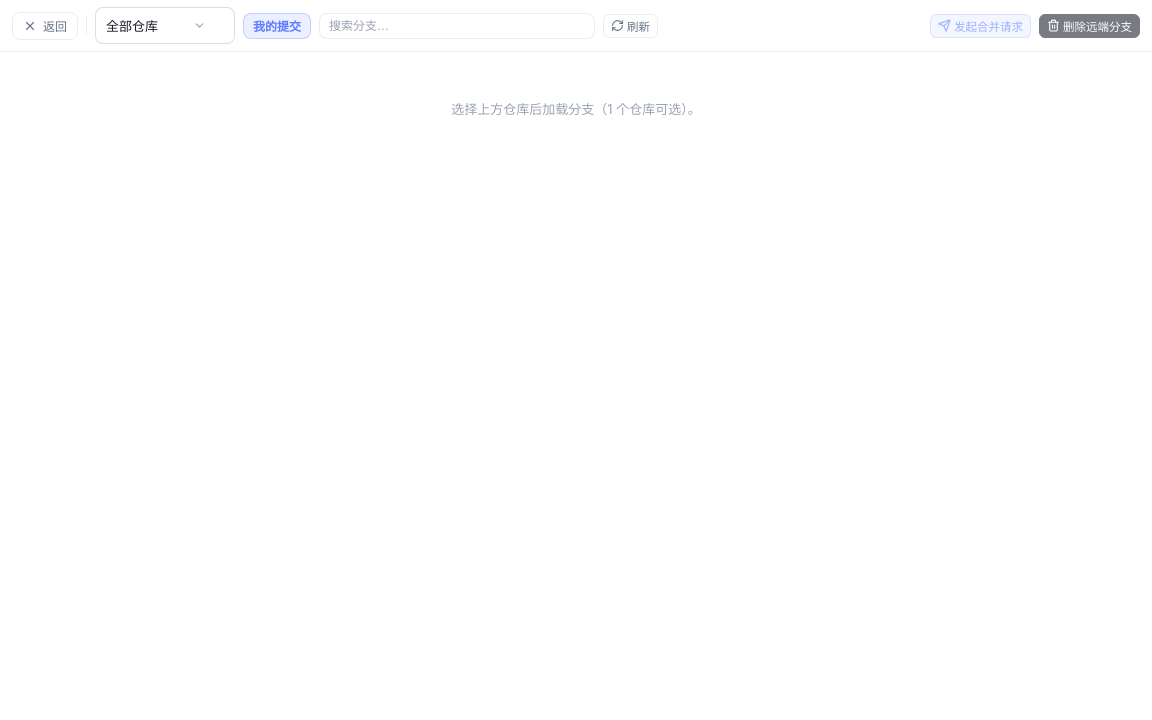
Test: PendingMrView › runs the dry-run scan, confirms in an in-app dialog, then deletes
Click the dropdown labelled "全部仓库": (165, 26) [95,7,235,44]
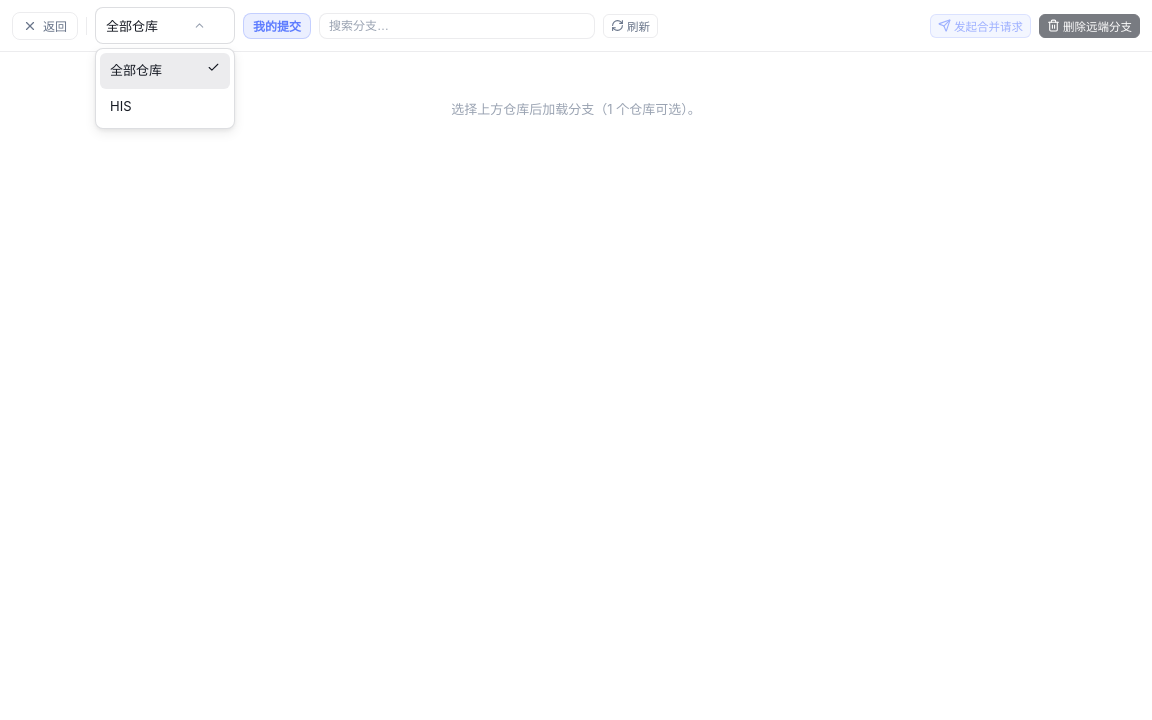
Click the option "HIS": (121, 106) [110,98,132,114]
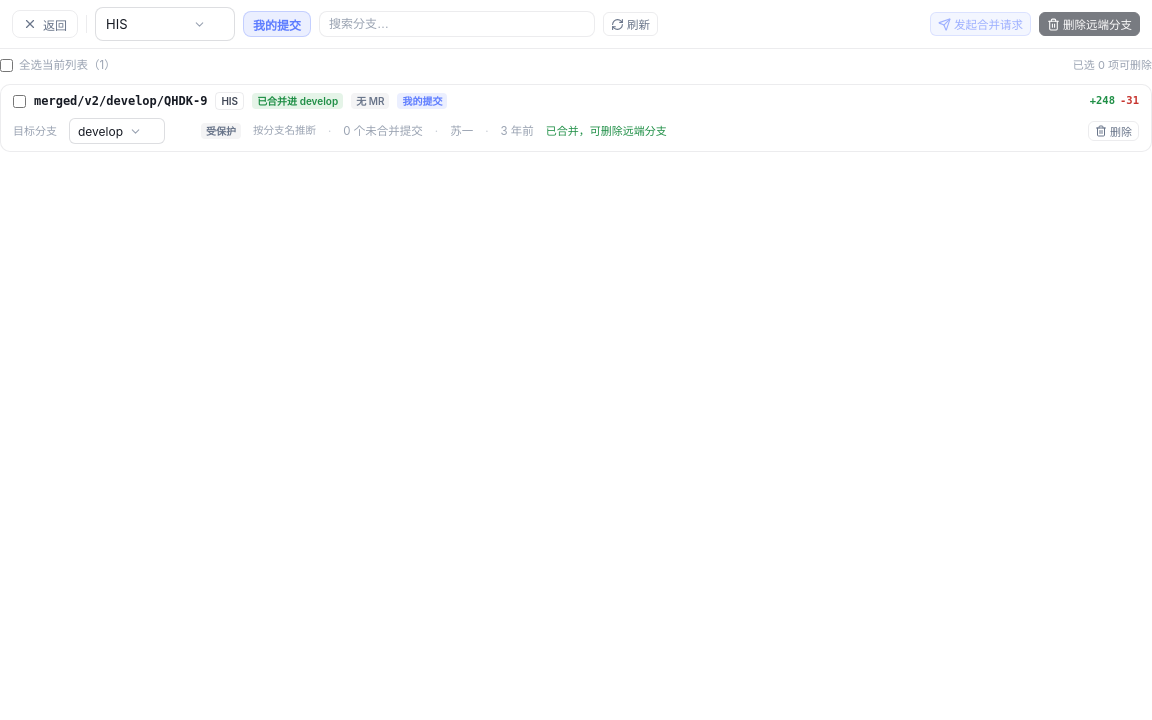
Result: the text "merged/v2/develop/QHDK-9" is shown at [34,92,207,110]
Click the checkbox named "merged/v2/develop/QHDK-9": (20, 101) [13,95,26,108]
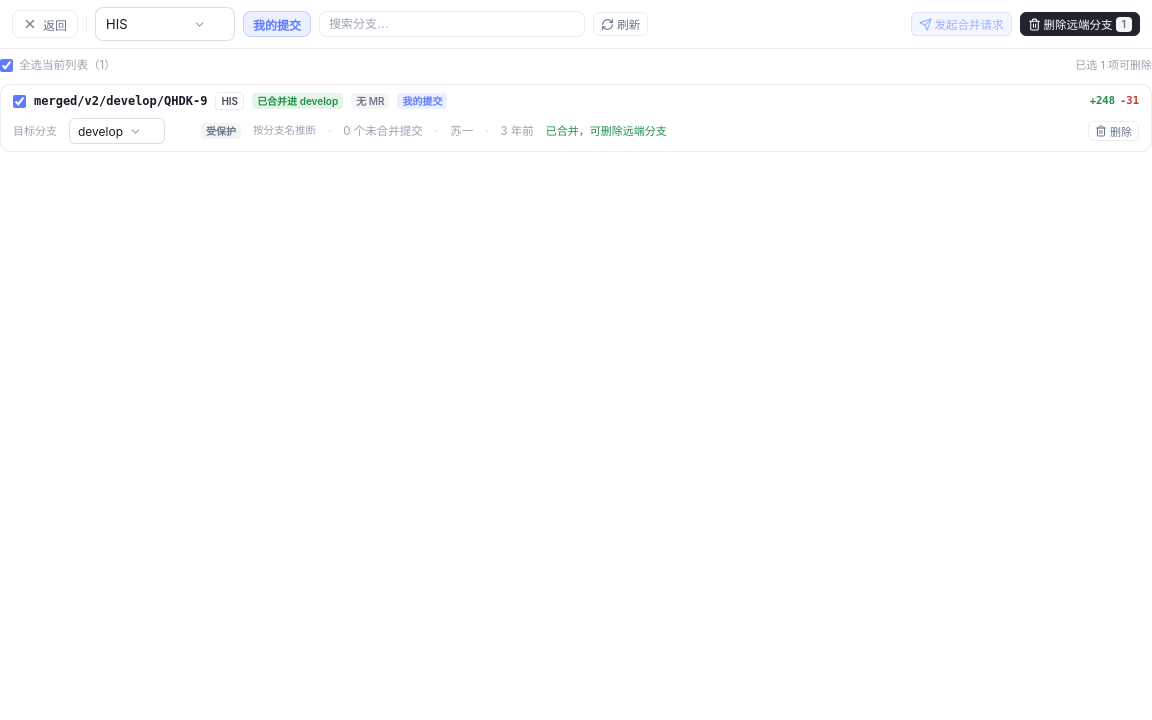
Click the button "删除远端分支 1": (1080, 24) [1020,12,1140,36]
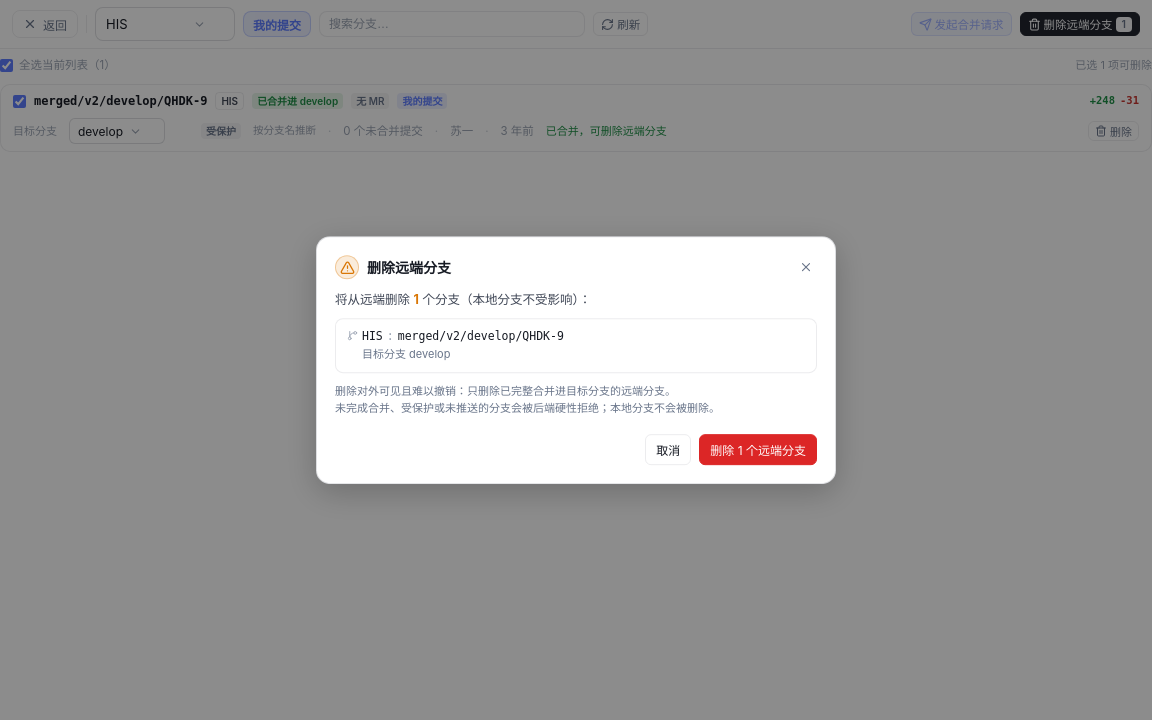
Result: the dialog shows "merged/v2/develop/QHDK-9" at [398,329,564,343]
Result: the dialog shows "目标分支 develop" at [316,236,836,484]
Click the button "删除 1 个远端分支": (758, 449) [699,434,817,465]
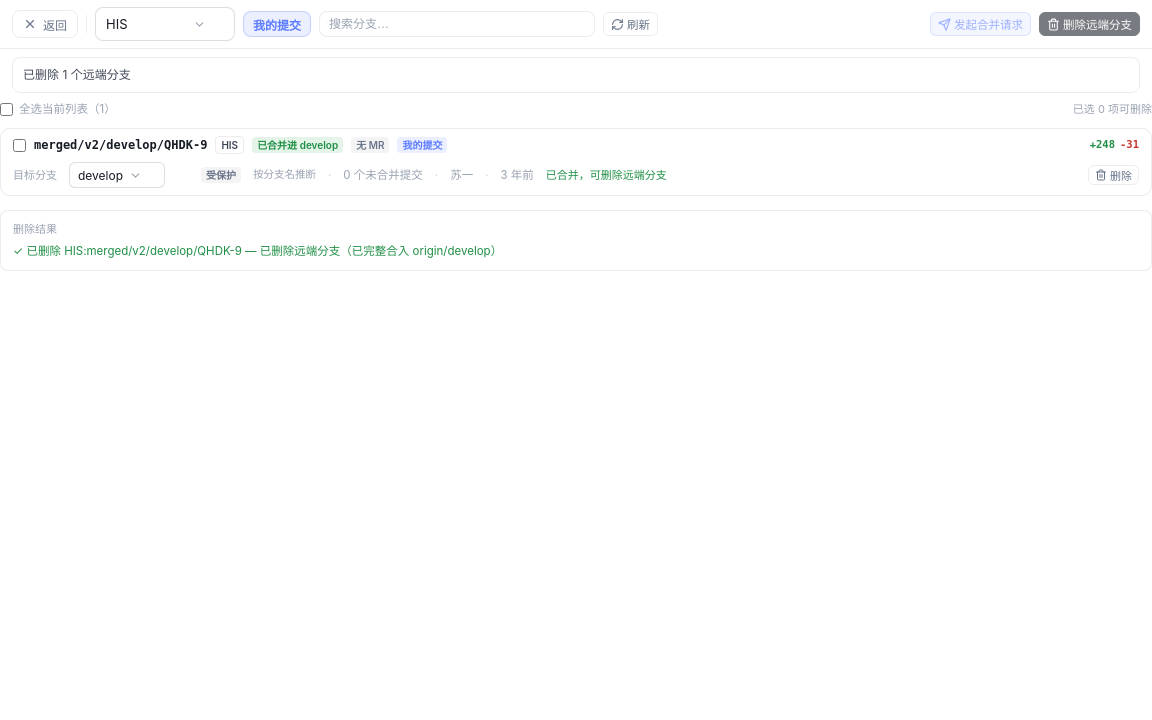
Result: the dialog is gone
Result: the text "✓ 已删除 HIS:merged/v2/develop/QHDK-9" is shown at [13,244,502,258]
